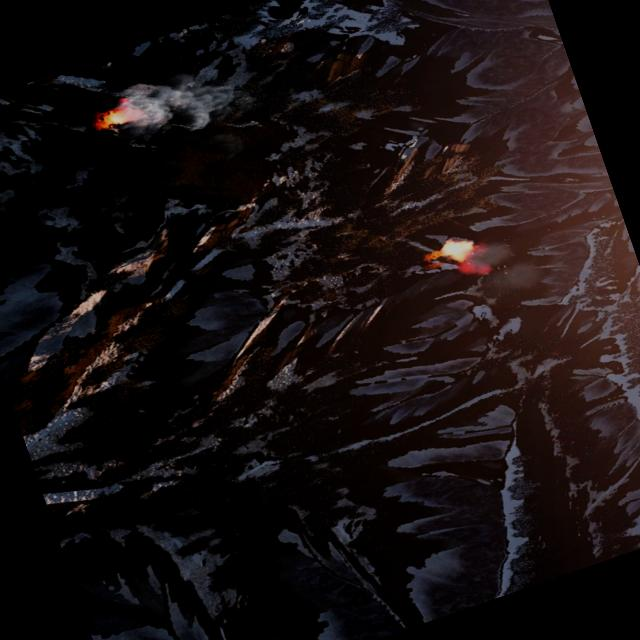fire: (432, 231, 478, 268), (94, 104, 131, 133)
smoke: (106, 43, 264, 181), (462, 232, 545, 308)
